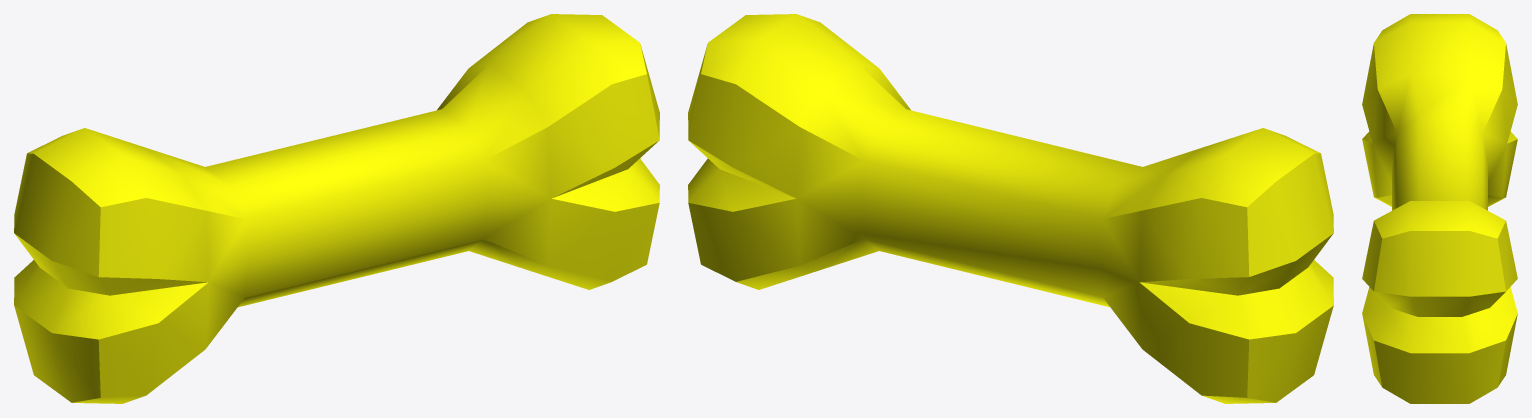
Rendered from kaykit-bone-a.glb.
The picture shows the model from 3 angles, left to right: view 1: azimuth 30°, elevation 25°; view 2: azimuth 150°, elevation 25°; view 3: azimuth 270°, elevation 25°; orthographic projection. The views are drawn at different scales.
Parts seen in each view (by area): view 1: bone_A; view 2: bone_A; view 3: bone_A.
Boxes of the visible parts, x1,y1,x2,y2 form: bone_A: (14, 14, 659, 403); bone_A: (688, 14, 1333, 403); bone_A: (1362, 14, 1517, 403).
Size of the model in its own units: 0.707 by 0.2761 by 0.2007.
